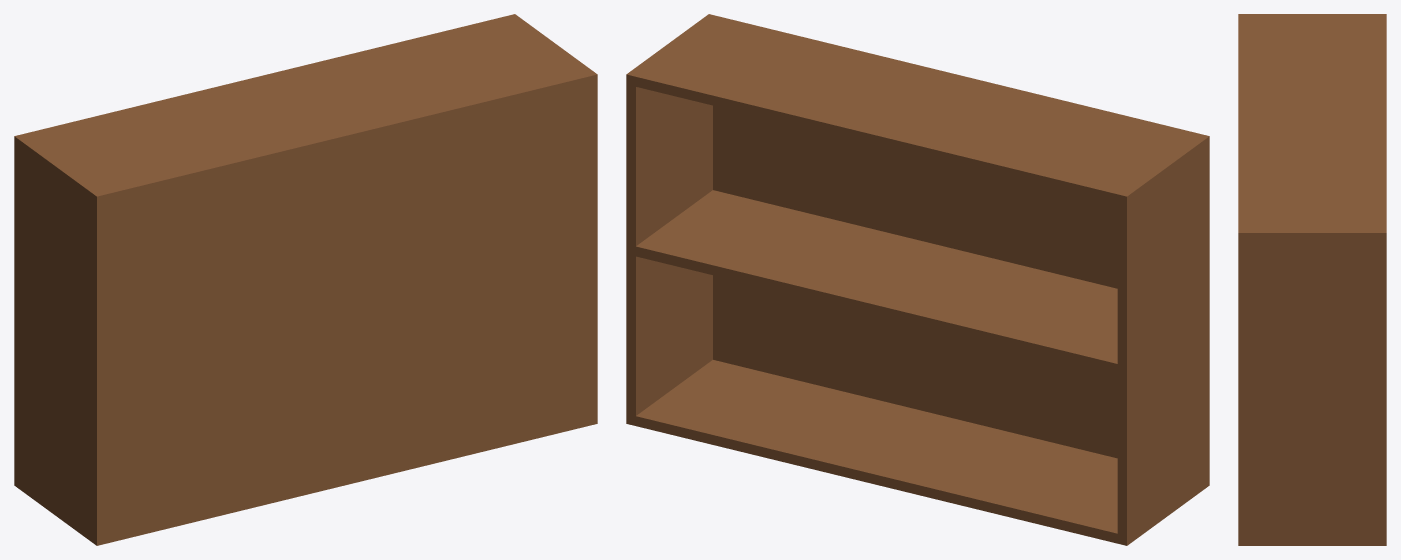
File: parametric-wall-shelf-1st-1050x0300x0700.glb
3 views of the same model, side by side, from view 1: azimuth 30°, elevation 25°; view 2: azimuth 150°, elevation 25°; view 3: azimuth 270°, elevation 25° (orthographic). The views are drawn at different scales.
Parts seen in each view (by area): view 1: backboard, top, end:-1, end:1; view 2: backboard, top, bottom, shelf, end:-1, end:1; view 3: end:1, top, backboard, end:-1.
Boxes of the visible parts, box(x1,y1,x2,y2) form: backboard: box(91, 70, 597, 545); top: box(24, 16, 582, 189); end:-1: box(14, 134, 100, 541); end:1: box(506, 14, 591, 72); backboard: box(704, 14, 1209, 489); top: box(636, 20, 1193, 204); bottom: box(636, 360, 1117, 543); shelf: box(636, 190, 1117, 373); end:-1: box(1117, 138, 1203, 545); end:1: box(626, 18, 712, 425); end:1: box(1248, 228, 1386, 545); top: box(1248, 18, 1386, 228); backboard: box(1238, 14, 1248, 545); end:-1: box(1248, 14, 1386, 18).
Size of the model in its own units: 1.05 by 0.7 by 0.3.
